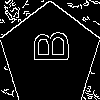B: (25, 30, 68, 63)
